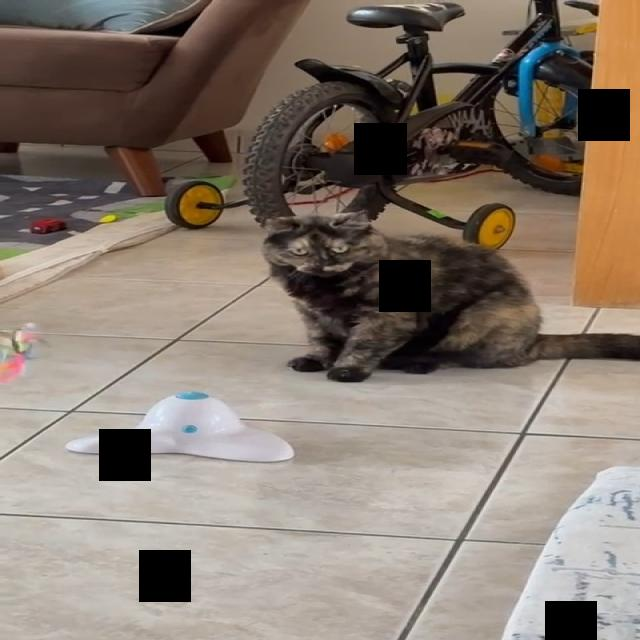authorized: (260, 210, 639, 382)
